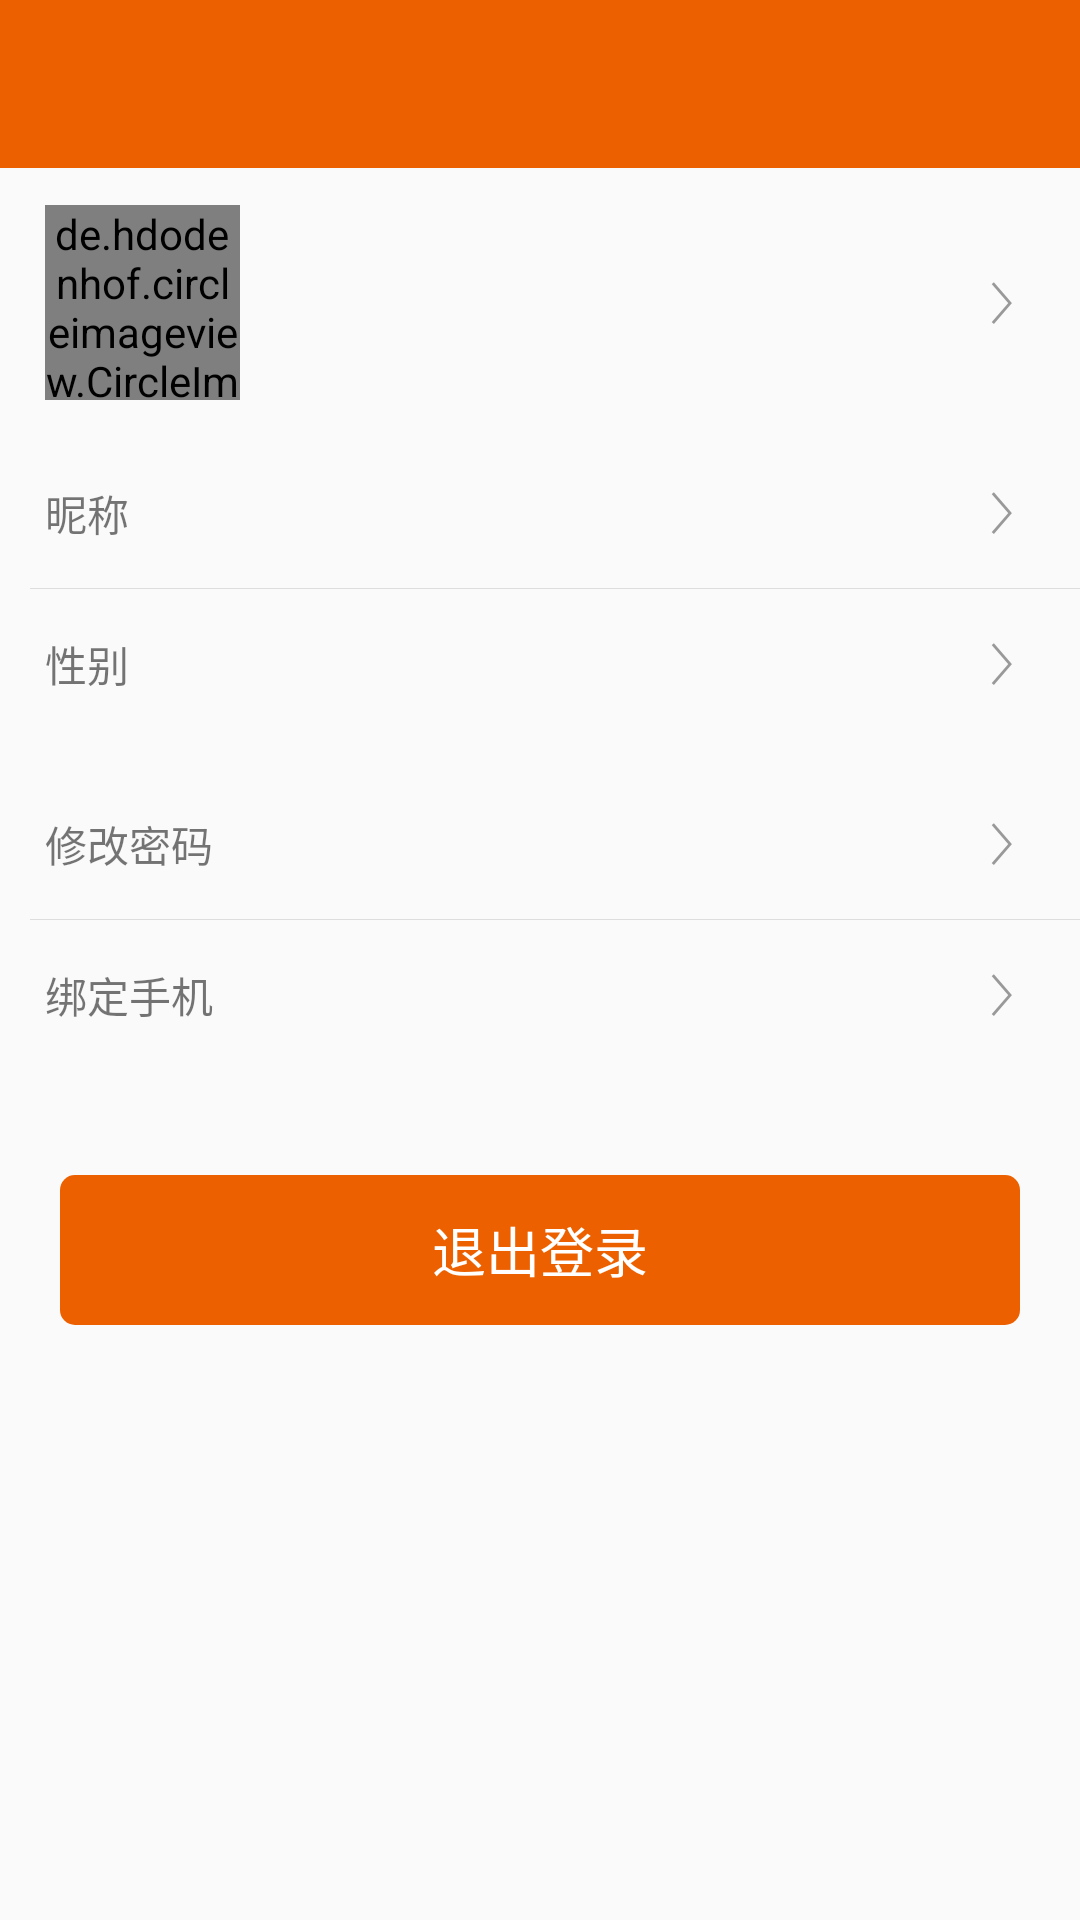

Icon bounding boxes for this 1080px x 1920px phone screenshot, format [x1, y1, x2, y2]:
youjiantou: [992, 282, 1012, 324]
